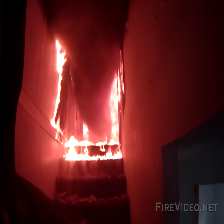fire_h: (51, 41, 66, 134), (109, 63, 125, 145), (63, 146, 123, 160), (63, 135, 107, 146)
fire_l: (83, 124, 89, 135)
